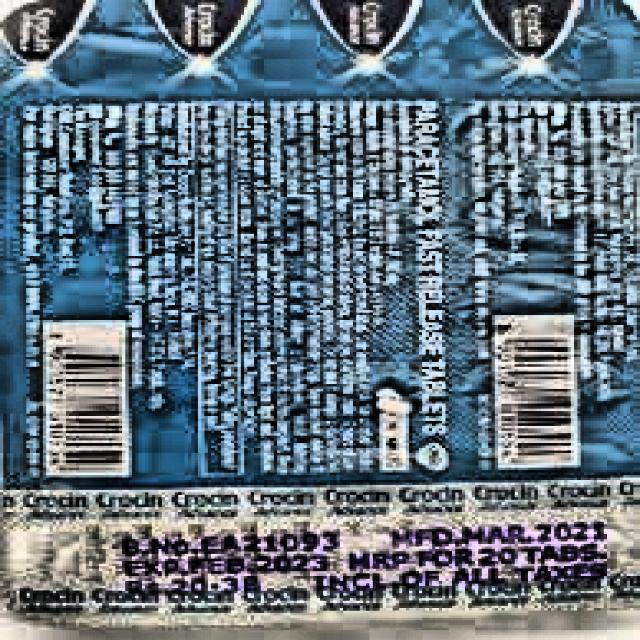Crocin: (6, 5, 640, 100)
